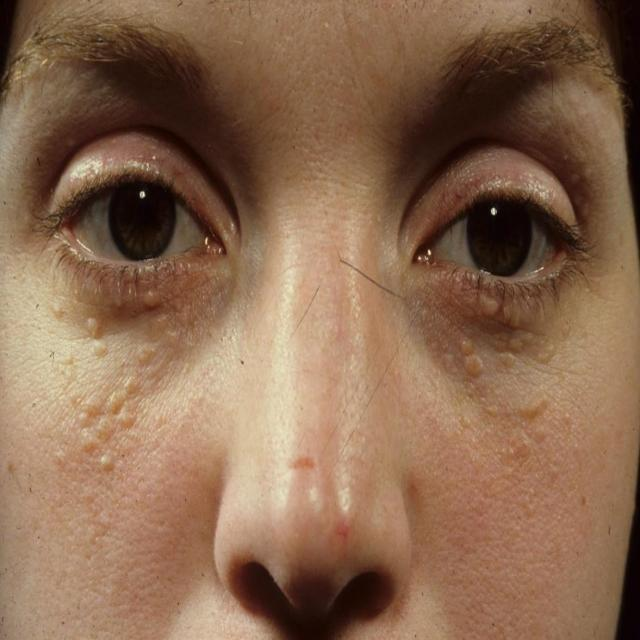keloid: (50, 373, 141, 482), (42, 284, 110, 361), (130, 320, 190, 390), (132, 282, 167, 318)
syringoma: (422, 288, 568, 392), (496, 404, 562, 520), (564, 128, 622, 228)
